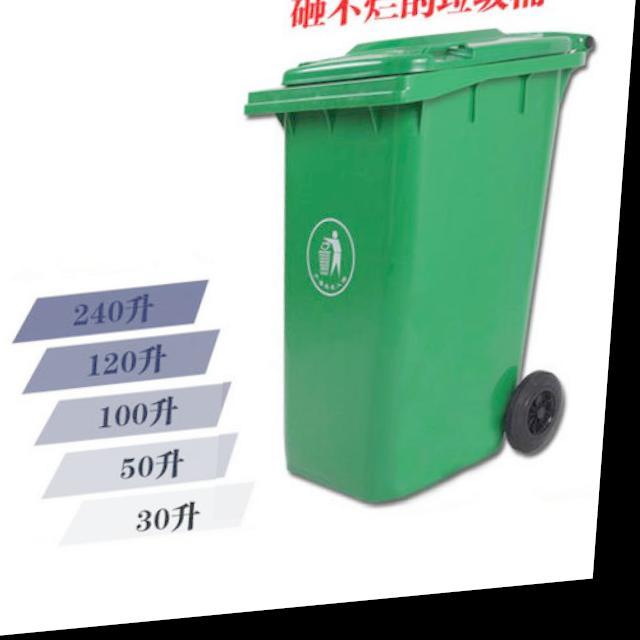garbage_bin: (221, 30, 598, 526)
